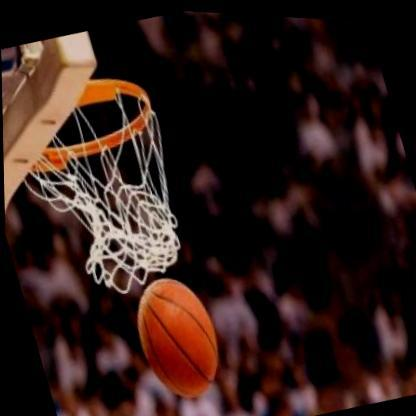basketball: (119, 259, 237, 414)
